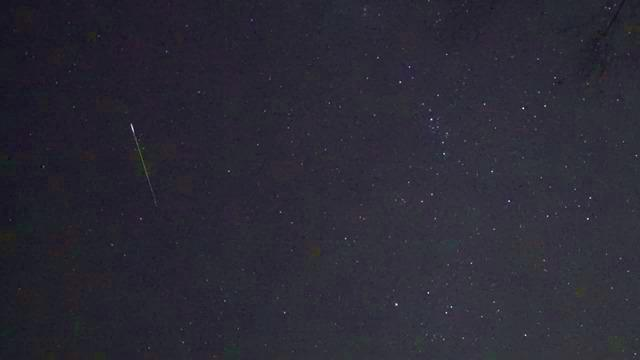meteorite: (118, 115, 166, 216)
